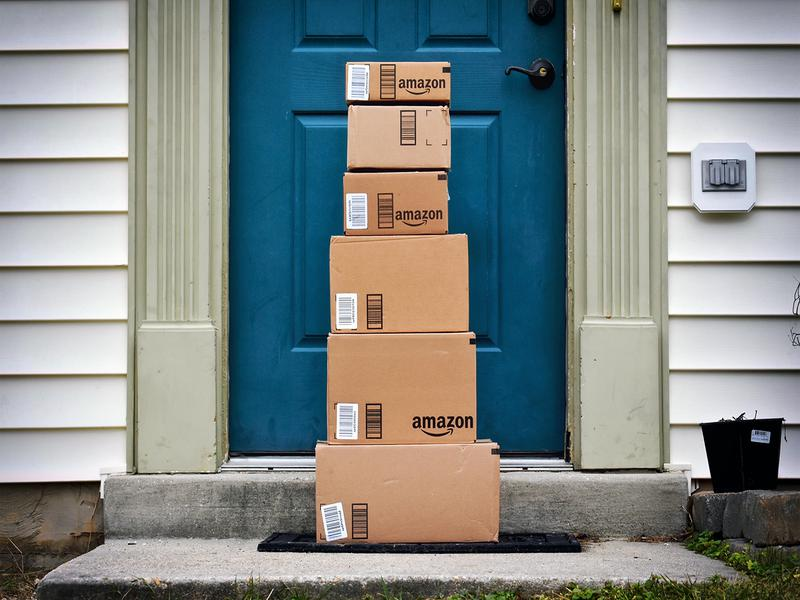package: (308, 439, 504, 549), (320, 327, 479, 445), (326, 233, 475, 335), (338, 99, 456, 171), (336, 167, 453, 235), (338, 56, 454, 103)
